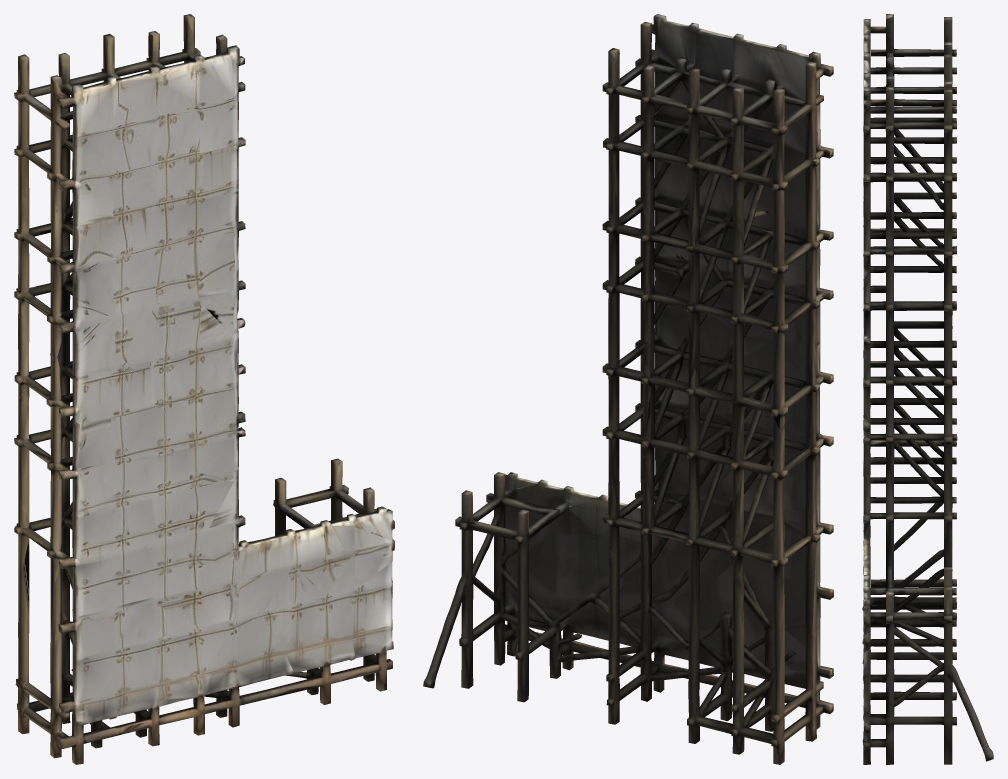
The model's file is sign-letter-L.glb.
The picture shows the model from 3 angles, left to right: view 1: azimuth 30°, elevation 25°; view 2: azimuth 150°, elevation 25°; view 3: azimuth 270°, elevation 25°; orthographic projection. The views are drawn at different scales.
Visible parts, largest first — view 1: model; view 2: model; view 3: model.
Boxes of the visible parts, bbox=[...] form: model: bbox=[14, 14, 394, 764]; model: bbox=[423, 14, 833, 764]; model: bbox=[862, 14, 993, 764].
Bounding box in the file's own units: 7.03 × 13.4 × 2.61.
Materials: 1 (1 with a texture image).
